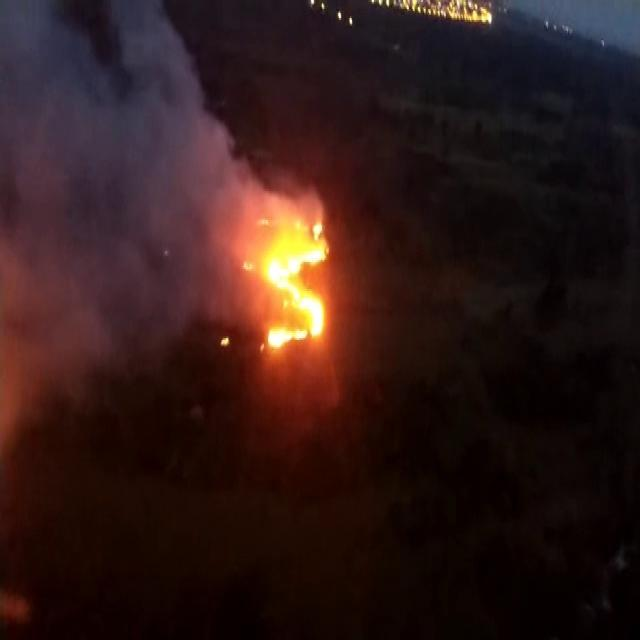Fire: (256, 212, 332, 352)
Smoke: (6, 11, 215, 360)
